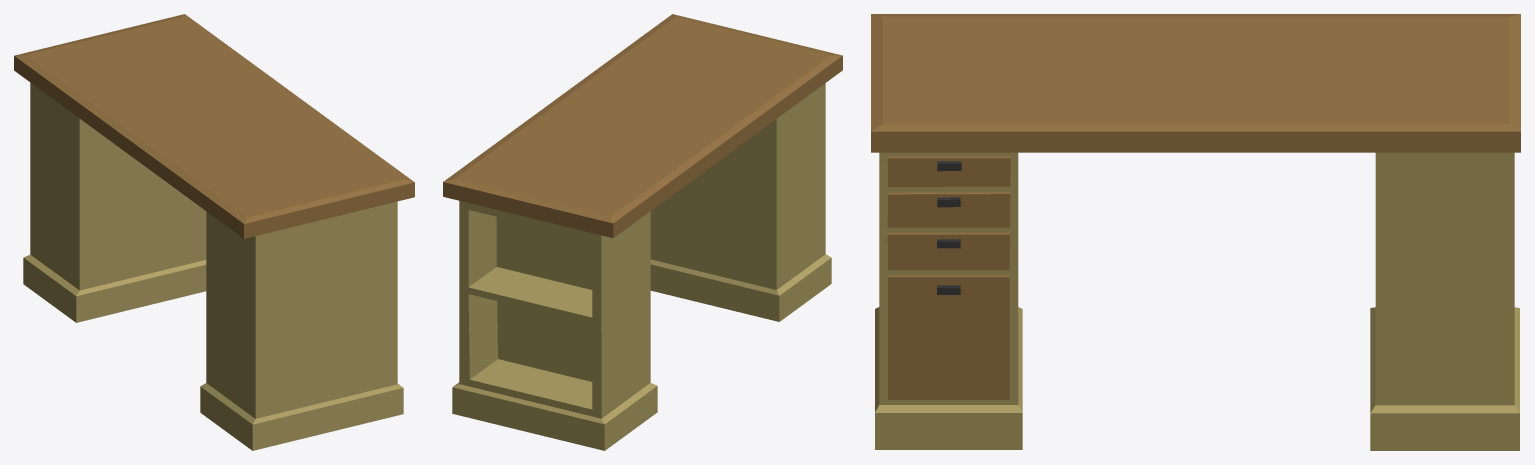
File: bureau c.fbx
3 views of the same model, side by side, from view 1: azimuth 30°, elevation 25°; view 2: azimuth 150°, elevation 25°; view 3: azimuth 270°, elevation 25° (orthographic). The views are drawn at different scales.
Visible parts, largest first — view 1: Cube, Cube.001, Cube.002; view 2: Cube, Cube.002, Cube.001; view 3: Cube, Cube.002, Cube.001.
Part boxes in pixels (bbox=[...]): Cube: bbox=[14, 14, 414, 238]; Cube.001: bbox=[200, 201, 403, 450]; Cube.002: bbox=[23, 82, 206, 322]; Cube: bbox=[443, 14, 842, 238]; Cube.002: bbox=[452, 201, 657, 450]; Cube.001: bbox=[650, 83, 831, 321]; Cube: bbox=[871, 14, 1520, 152]; Cube.002: bbox=[1370, 152, 1519, 450]; Cube.001: bbox=[875, 152, 1022, 449].
Size of the model in its own units: 60 by 77.95 by 140.
